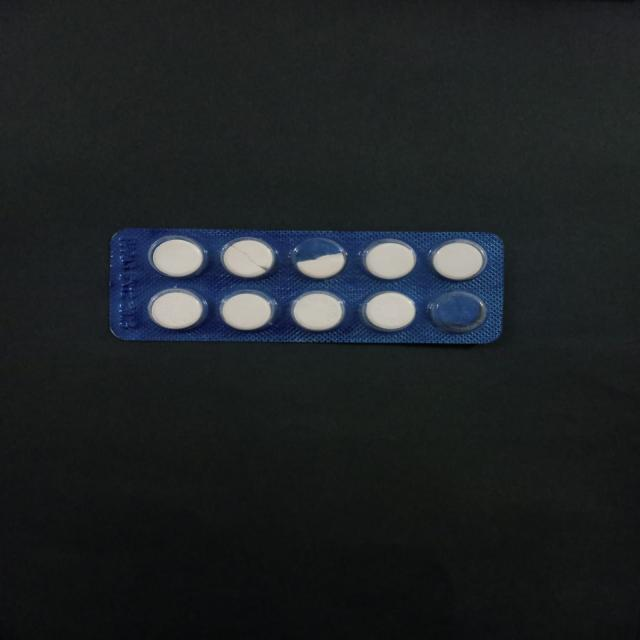defect: (423, 288, 491, 336), (288, 234, 352, 282), (218, 235, 280, 282)
